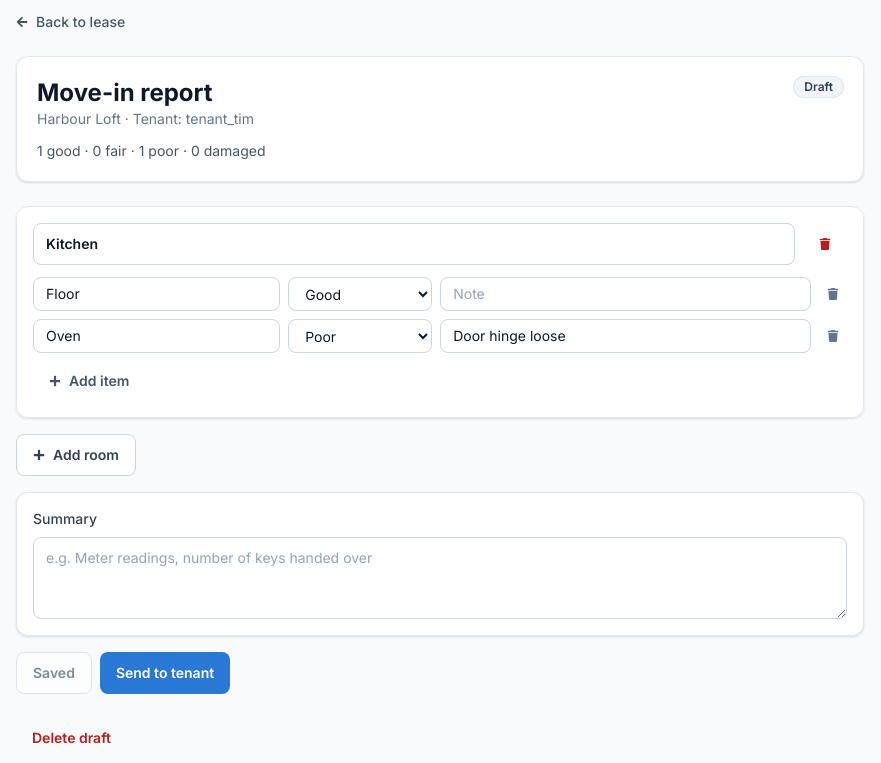
Scenario: Inspection page › shows errors from the server
Click the button "Send to tenant" at {"x": 165, "y": 673}, box [100,652,230,694]
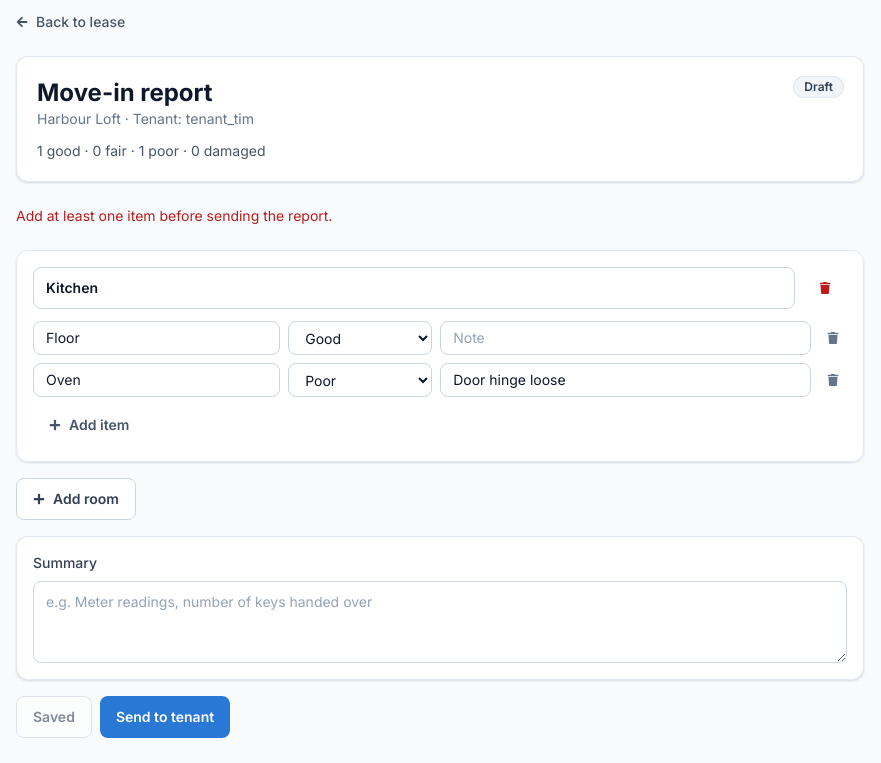
Expected: the message reads "Add at least one item before sending the report.", [16,207,332,224]
